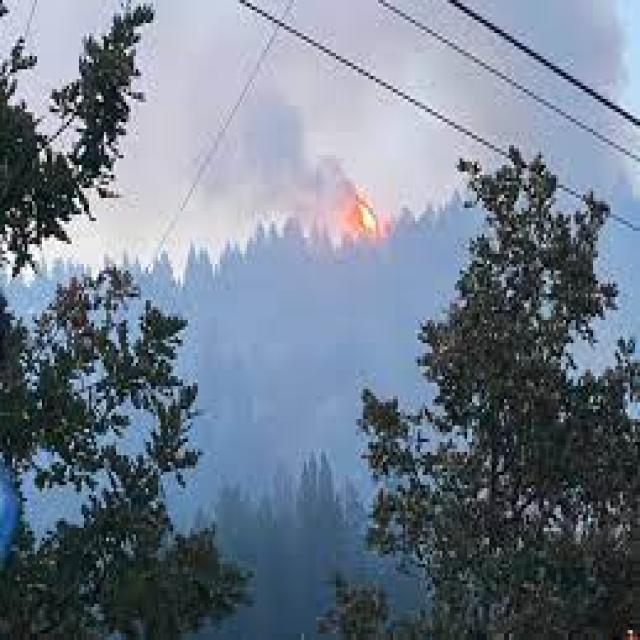Fire: (336, 190, 387, 270)
Smoke: (240, 102, 368, 238)
